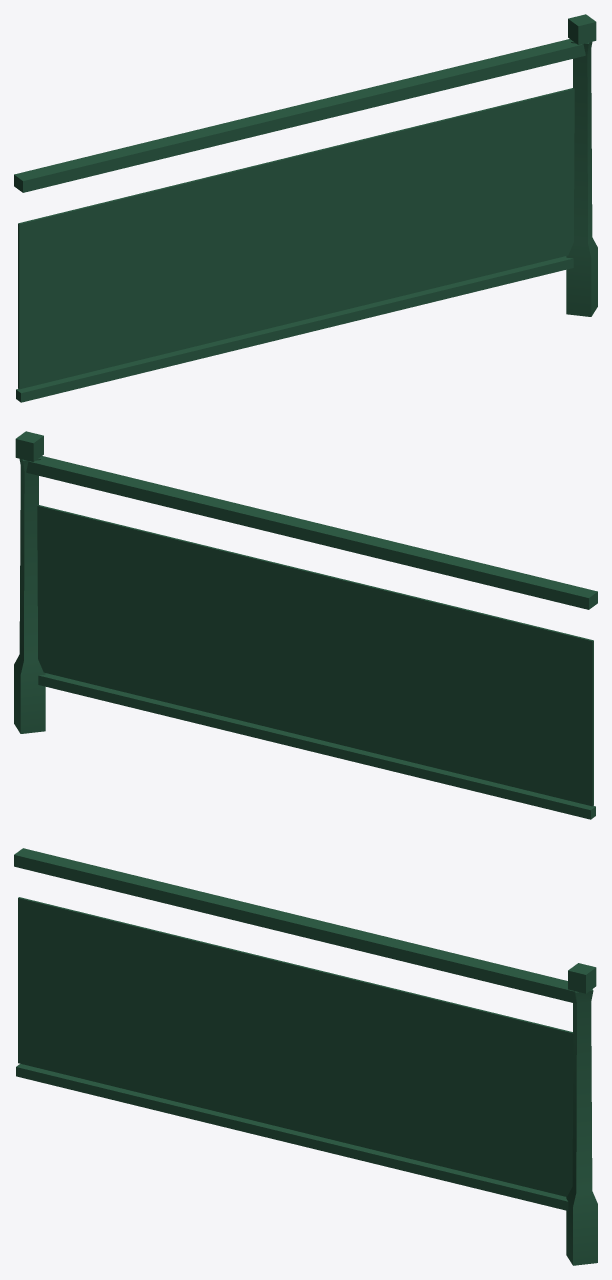
The model's file is SM_Prop_coast_promrail_1_LOD2.glb.
The picture shows the model from 3 angles, top to bottom: view 1: azimuth 30°, elevation 25°; view 2: azimuth 150°, elevation 25°; view 3: azimuth 330°, elevation 25°; orthographic projection.
Visible parts, largest first — view 1: SM_Prop_coast_promrail_1_LOD2; view 2: SM_Prop_coast_promrail_1_LOD2; view 3: SM_Prop_coast_promrail_1_LOD2.
Part boxes in pixels (x1,y1,x2,y2): SM_Prop_coast_promrail_1_LOD2: [14, 14, 597, 402]; SM_Prop_coast_promrail_1_LOD2: [14, 431, 597, 819]; SM_Prop_coast_promrail_1_LOD2: [14, 848, 597, 1265].
Size of the model in its own units: 2.57 by 1.23 by 0.14.
